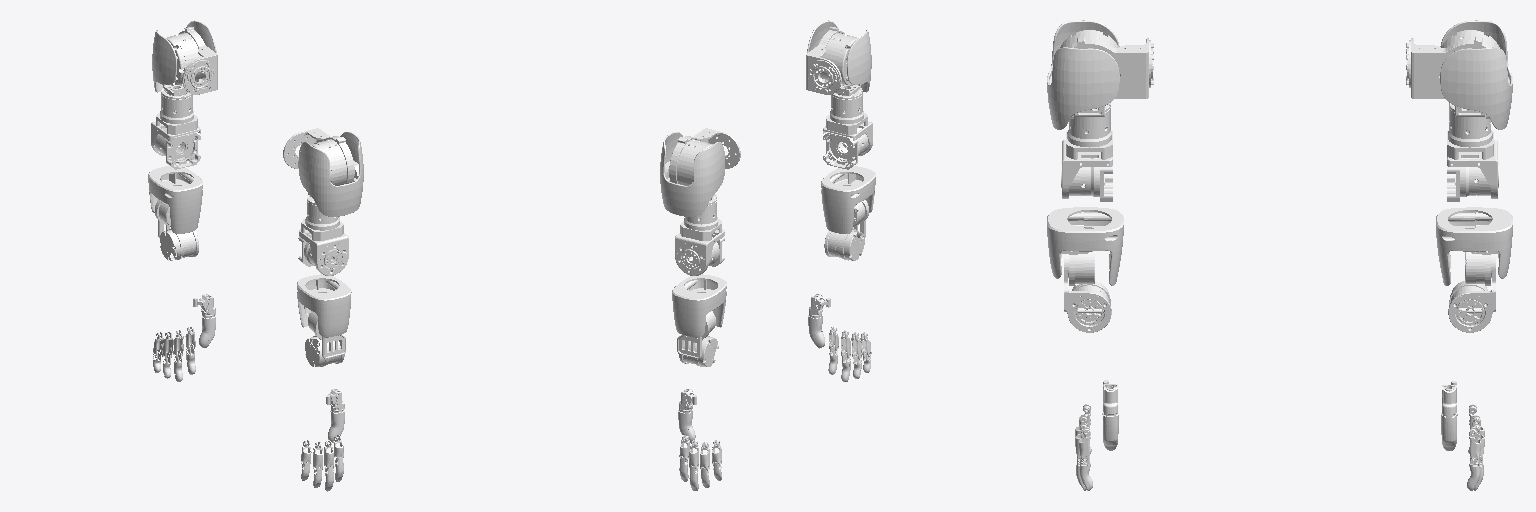
--- What the picture shows (computed from the rendered views, not written in the file) ---
3 views of the same robot in one strip: view 1: azimuth 30°, elevation 25°; view 2: azimuth 150°, elevation 25°; view 3: azimuth 270°, elevation 25° (orthographic).
Robot: biped_s4 — 35 links, 34 joints (34 continuous); root link torso; default pose: all joints at 0.
Visible links, largest first — view 1: r_arm_roll, l_hand_yaw, l_arm_yaw, r_hand_yaw, r_arm_yaw, l_arm_pitch, r_arm_pitch, l_arm_roll, r_hand_pitch, l_hand_pitch, l_thumb_distal_pitch, r_thumb_distal_pitch; view 2: l_arm_roll, r_hand_yaw, r_arm_yaw, l_hand_yaw, l_arm_yaw, r_arm_pitch, l_arm_pitch, r_arm_roll, r_hand_pitch, l_hand_pitch, r_thumb_distal_pitch, l_thumb_distal_pitch; view 3: r_arm_roll, l_arm_roll, l_hand_yaw, r_hand_yaw, l_arm_yaw, r_arm_yaw, l_arm_pitch, r_arm_pitch, l_hand_pitch, r_hand_pitch, r_thumb_distal_pitch, l_thumb_distal_pitch.
Link boxes in pixels (<box>): r_arm_roll: <box>298,132,363,216</box>; l_hand_yaw: <box>148,166,202,233</box>; l_arm_yaw: <box>151,88,200,169</box>; r_hand_yaw: <box>297,274,351,339</box>; r_arm_yaw: <box>298,195,348,275</box>; l_arm_pitch: <box>166,27,217,94</box>; r_arm_pitch: <box>283,128,354,185</box>; l_arm_roll: <box>152,20,216,95</box>; r_hand_pitch: <box>305,335,345,366</box>; l_hand_pitch: <box>158,220,198,260</box>; l_thumb_distal_pitch: <box>199,294,215,347</box>; r_thumb_distal_pitch: <box>328,389,344,442</box>; l_arm_roll: <box>660,132,724,216</box>; r_hand_yaw: <box>821,166,875,233</box>; r_arm_yaw: <box>823,88,872,169</box>; l_hand_yaw: <box>672,274,726,339</box>; l_arm_yaw: <box>675,194,724,275</box>; r_arm_pitch: <box>806,27,857,94</box>; l_arm_pitch: <box>669,128,740,185</box>; r_arm_roll: <box>807,20,871,95</box>; r_hand_pitch: <box>824,220,865,260</box>; l_hand_pitch: <box>677,335,718,366</box>; r_thumb_distal_pitch: <box>808,294,825,348</box>; l_thumb_distal_pitch: <box>678,389,695,442</box>; r_arm_roll: <box>1047,20,1119,129</box>; l_arm_roll: <box>1440,20,1512,129</box>; l_hand_yaw: <box>1436,207,1512,285</box>; r_hand_yaw: <box>1047,207,1123,285</box>; l_arm_yaw: <box>1447,103,1498,201</box>; r_arm_yaw: <box>1061,103,1112,201</box>; l_arm_pitch: <box>1406,30,1499,98</box>; r_arm_pitch: <box>1060,30,1153,98</box>; l_hand_pitch: <box>1448,254,1495,332</box>; r_hand_pitch: <box>1064,254,1111,332</box>; r_thumb_distal_pitch: <box>1102,384,1118,450</box>; l_thumb_distal_pitch: <box>1441,385,1457,450</box>.
Bounding box of the posed robot: 0.1139 × 0.6244 × 0.678 m (x, y, z).
Meshes: 35 distinct files referenced, 32 mesh visuals loaded (32 OBJ); not drawn: 3 (reference not matched to a file when rendering).

robot.urdf — biped_s4:
<?xml version="1.0" encoding="utf-8"?>
<!-- This URDF was automatically created by SolidWorks to URDF Exporter! Originally created by Stephen Brawner ([email redacted]) 
     Commit Version: 1.6.0-4-g7f85cfe  Build Version: 1.6.7995.38578
     For more information, please see http://wiki.ros.org/sw_urdf_exporter -->
<robot
  name="biped_s4">
  <link
    name="torso">
    <inertial>
      <origin
        xyz="-0.0131642143292668 -0.00101855461920045 0.120968817067497"
        rpy="0 0 0" />
      <mass
        value="26.62066" />
      <inertia
        ixx="0.109513413578877"
        ixy="-3.84263402967609E-06"
        ixz="0.002072229236261"
        iyy="0.0639718644540955"
        iyz="5.94596039793819E-06"
        izz="0.0796086142464887" />
    </inertial>
    <visual>
      <origin
        xyz="0 0 0"
        rpy="0 0 0" />
      <geometry>
        <mesh
          filename="../meshes/torso.obj" />
      </geometry>
      <material
        name="">
        <color
          rgba="1 1 1 1" />
      </material>
    </visual>
    <!-- <collision>
      <origin
        xyz="0 0 0"
        rpy="0 0 0" />
      <geometry>
        <mesh
          filename="../meshes/torso.obj" />
      </geometry>
    </collision> -->
  </link>
  <link
    name="l_arm_pitch">
    <inertial>
      <origin
        xyz="0.0146835191418715 -0.0166604103758634 -6.82857133369463E-05"
        rpy="0 0 0" />
      <mass
        value="0.794" />
      <inertia
        ixx="0.0002674432873971"
        ixy="-2.5654089149164E-05"
        ixz="-1.72966133127557E-07"
        iyy="0.000125796784291983"
        iyz="-1.66717296343014E-06"
        izz="0.000196186976742156" />
    </inertial>
    <visual>
      <origin
        xyz="0 0 0"
        rpy="0 0 0" />
      <geometry>
        <mesh
          filename="../meshes/l_arm_pitch.obj" />
      </geometry>
      <material
        name="">
        <color
          rgba="1 1 1 1" />
      </material>
    </visual>
    <!-- <collision>
      <origin
        xyz="0 0 0"
        rpy="0 0 0" />
      <geometry>
        <mesh
          filename="../meshes/l_arm_pitch.obj" />
      </geometry>
    </collision> -->
  </link>
  <joint
    name="l_arm_pitch"
    type="continuous">
    <origin
      xyz="-0.0175475823124921 0.254700000000031 0.324500000000024"
      rpy="0 0 0" />
    <parent
      link="torso" />
    <child
      link="l_arm_pitch" />
    <axis
      xyz="0 1 0" />
  </joint>
  <transmission type="SimpleTransmission">
    <joint name="l_arm_pitch" />
    <actuator name="l_arm_pitch_motor" />
  </transmission>
  
  <link
    name="l_arm_roll">
    <inertial>
      <origin
        xyz="0.0222872651779294 0.0156945544195443 -0.0202262244341467"
        rpy="0 0 0" />
      <mass
        value="0.20735" />
      <inertia
        ixx="0.000160370067223078"
        ixy="6.30811840859276E-06"
        ixz="-1.13259246453472E-05"
        iyy="0.000262365778589952"
        iyz="3.14941259087025E-05"
        izz="0.000236014036281963" />
    </inertial>
    <visual>
      <origin
        xyz="0 0 0"
        rpy="0 0 0" />
      <geometry>
        <mesh
          filename="../meshes/l_arm_roll.obj" />
      </geometry>
      <material
        name="">
        <color
          rgba="1 1 1 1" />
      </material>
    </visual>
    <!-- <collision>
      <origin
        xyz="0 0 0"
        rpy="0 0 0" />
      <geometry>
        <mesh
          filename="../meshes/l_arm_roll.obj" />
      </geometry>
    </collision> -->
  </link>
  <joint
    name="l_arm_roll"
    type="continuous">
    <origin
      xyz="0 0 0"
      rpy="0 0 0" />
    <parent
      link="l_arm_pitch" />
    <child
      link="l_arm_roll" />
    <axis
      xyz="1 0 0" />
  </joint>
  <transmission type="SimpleTransmission">
    <joint name="l_arm_roll" />
    <actuator name="l_arm_roll_motor" />
  </transmission>
  
  <link
    name="l_arm_yaw">
    <inertial>
      <origin
        xyz="6.16940440653045E-05 0.00525815062787316 -0.12882194485465"
        rpy="0 0 0" />
      <mass
        value="1.120632" />
      <inertia
        ixx="7.00575957554695E-05"
        ixy="-6.81658230071221E-10"
        ixz="2.6942707856767E-10"
        iyy="8.53612265336774E-05"
        iyz="6.95899873075697E-06"
        izz="8.82223899453282E-05" />
    </inertial>
    <visual>
      <origin
        xyz="0 0 0"
        rpy="0 0 0" />
      <geometry>
        <mesh
          filename="../meshes/l_arm_yaw.obj" />
      </geometry>
      <material
        name="">
        <color
          rgba="1 1 1 1" />
      </material>
    </visual>
    <!-- <collision>
      <origin
        xyz="0 0 0"
        rpy="0 0 0" />
      <geometry>
        <mesh
          filename="../meshes/l_arm_yaw.obj" />
      </geometry>
    </collision> -->
  </link>
  <joint
    name="l_arm_yaw"
    type="continuous">
    <origin
      xyz="0 0 0"
      rpy="0 0 0" />
    <parent
      link="l_arm_roll" />
    <child
      link="l_arm_yaw" />
    <axis
      xyz="0 0 1" />
  </joint>
  <transmission type="SimpleTransmission">
    <joint name="l_arm_yaw" />
    <actuator name="l_arm_yaw_motor" />
  </transmission>
  
  <link
    name="l_forearm_pitch">
    <inertial>
      <origin
        xyz="-1.42819297162602E-05 0.00938313949963104 -0.0522687552263907"
        rpy="0 0 0" />
      <mass
        value="0.395825" />
      <inertia
        ixx="9.55808447606964E-05"
        ixy="-4.53863489155473E-08"
        ixz="5.39342118114986E-08"
        iyy="0.000126326373178401"
        iyz="-9.58160032696802E-06"
        izz="0.000121032474884244" />
    </inertial>
    <visual>
      <origin
        xyz="0 0 0"
        rpy="0 0 0" />
      <geometry>
        <mesh
          filename="../meshes/l_forearm_pitch.obj" />
      </geometry>
      <material
        name="">
        <color
          rgba="1 1 1 1" />
      </material>
    </visual>
    <!-- <collision>
      <origin
        xyz="0 0 0"
        rpy="0 0 0" />
      <geometry>
        <mesh
          filename="../meshes/l_forearm_pitch.obj" />
      </geometry>
    </collision> -->
  </link>
  <joint
    name="l_forearm_pitch"
    type="continuous">
    <origin
      xyz="0 0 -0.163599999999996"
      rpy="0 0 0" />
    <parent
      link="l_arm_yaw" />
    <child
      link="l_forearm_pitch" />
    <axis
      xyz="0 1 0" />
  </joint>
  <transmission type="SimpleTransmission">
    <joint name="l_arm_yaw" />
    <actuator name="l_arm_yaw_motor" />
  </transmission>
  
  <link
    name="l_hand_yaw">
    <inertial>
      <origin
        xyz="0.000113131262875685 0.00969728110559553 0.0227960708688583"
        rpy="0 0 0" />
      <mass
        value="0.380792" />
      <inertia
        ixx="7.64923971357921E-05"
        ixy="8.51207618055666E-09"
        ixz="-1.40676645868301E-08"
        iyy="0.000122231121933325"
        iyz="1.11226992393513E-06"
        izz="8.44934959384744E-05" />
    </inertial>
    <visual>
      <origin
        xyz="0 0 0"
        rpy="0 0 0" />
      <geometry>
        <mesh
          filename="../meshes/l_hand_yaw.obj" />
      </geometry>
      <material
        name="">
        <color
          rgba="1 1 1 1" />
      </material>
    </visual>
    <!-- <collision>
      <origin
        xyz="0 0 0"
        rpy="0 0 0" />
      <geometry>
        <mesh
          filename="../meshes/l_hand_yaw.obj" />
      </geometry>
    </collision> -->
  </link>
  <joint
    name="l_hand_yaw"
    type="continuous">
    <origin
      xyz="0 0 -0.132050000118071"
      rpy="0 0 0" />
    <parent
      link="l_forearm_pitch" />
    <child
      link="l_hand_yaw" />
    <axis
      xyz="0 0 1" />
  </joint>
  <transmission type="SimpleTransmission">
    <joint name="l_hand_yaw" />
    <actuator name="l_hand_yaw_motor" />
  </transmission>
  
  <link
    name="l_hand_pitch">
    <inertial>
      <origin
        xyz="0.00810609772930763 0.00490163171050539 -0.0527751110917489"
        rpy="0 0 0" />
      <mass
        value="0.376651" />
      <inertia
        ixx="4.77321490368476E-05"
        ixy="3.05261917457108E-06"
        ixz="4.77827164947653E-06"
        iyy="3.43814769749137E-05"
        iyz="-4.59311499587152E-06"
        izz="2.49955336560133E-05" />
    </inertial>
    <visual>
      <origin
        xyz="0 0 0"
        rpy="0 0 0" />
      <geometry>
        <mesh
          filename="../meshes/l_hand_pitch.obj" />
      </geometry>
      <material
        name="">
        <color
          rgba="1 1 1 1" />
      </material>
    </visual>
    <!-- <collision>
      <origin
        xyz="0 0 0"
        rpy="0 0 0" />
      <geometry>
        <mesh
          filename="../meshes/l_hand_pitch.obj" />
      </geometry>
    </collision> -->
  </link>
  <joint
    name="l_hand_pitch"
    type="continuous">
    <origin
      xyz="0 0 0"
      rpy="0 0 0" />
    <parent
      link="l_hand_yaw" />
    <child
      link="l_hand_pitch" />
    <axis
      xyz="0 1 0" />
  </joint>
  <transmission type="SimpleTransmission">
    <joint name="l_hand_pitch" />
    <actuator name="l_hand_pitch_motor" />
  </transmission>
  
  <link
    name="l_hand_roll">
    <inertial>
      <origin
        xyz="0.00396050555698803 0.00946265387749012 -0.066602176591173"
        rpy="0 0 0" />
      <mass
        value="0.704669" />
      <inertia
        ixx="9.13246737942629E-05"
        ixy="3.25649345932988E-07"
        ixz="-4.78728976781085E-06"
        iyy="0.000139866613946359"
        iyz="1.1925397914412E-05"
        izz="0.000125082116428502" />
    </inertial>
    <visual>
      <origin
        xyz="0 0 0"
        rpy="0 0 0" />
      <geometry>
        <mesh
          filename="../meshes/l_hand_roll.obj" />
      </geometry>
      <material
        name="">
        <color
          rgba="1 1 1 1" />
      </material>
    </visual>
    <!-- <collision>
      <origin
        xyz="0 0 0"
        rpy="0 0 0" />
      <geometry>
        <mesh
          filename="../meshes/l_hand_roll.obj" />
      </geometry>
    </collision> -->
  </link>
  <joint
    name="l_hand_roll"
    type="continuous">
    <origin
      xyz="0 0 -0.058999997180792"
      rpy="0 0 0" />
    <parent
      link="l_hand_pitch" />
    <child
      link="l_hand_roll" />
    <axis
      xyz="1 0 0" />
  </joint>
  <transmission type="SimpleTransmission">
    <joint name="l_hand_roll" />
    <actuator name="l_hand_roll_motor" />
  </transmission>

  <link
    name="l_thumb_proximal_yaw">
    <inertial>
      <origin
        xyz="0.00590166593878135 -0.00373751061980748 0.000119122170746666"
        rpy="0 0 0" />
      <mass
        value="0.00177457706476174" />
      <inertia
        ixx="5.5194777085443E-08"
        ixy="3.05430802968252E-08"
        ixz="8.99312903596649E-10"
        iyy="7.93062784538195E-08"
        iyz="-4.09905263561327E-10"
        izz="9.86616855273954E-08" />
    </inertial>
    <visual>
      <origin
        xyz="0 0 0"
        rpy="0 0 0" />
      <geometry>
        <mesh
          filename="../meshes/l_thumb_proximal_yaw.obj" />
      </geometry>
      <material
        name="">
        <color
          rgba="1 1 1 0.25" />
      </material>
    </visual>
    <!-- <collision>
      <origin
        xyz="0 0 0"
        rpy="0 0 0" />
      <geometry>
        <mesh
          filename="../meshes/l_thumb_proximal_yaw.obj" />
      </geometry>
    </collision> -->
  </link>
  <joint
    name="l_thumb_proximal_yaw"
    type="continuous">
    <origin
      xyz="0.0250000027597683 -0.0216278329431251 -0.110700000402975"
      rpy="0 0 0" />
    <parent
      link="l_hand_roll" />
    <child
      link="l_thumb_proximal_yaw" />
    <axis
      xyz="0 0 1" />
  </joint>
  <transmission type="SimpleTransmission">
    <joint name="l_thumb_proximal_yaw" />
    <actuator name="l_thumb_proximal_yaw_motor" />
  </transmission>
  <link
    name="l_thumb_distal_pitch">
    <inertial>
      <origin
        xyz="0.00835400575954671 -1.54980826169715E-06 -0.0372051471727699"
        rpy="0 0 0" />
      <mass
        value="0.0143594964918226" />
      <inertia
        ixx="7.15388390483937E-06"
        ixy="-6.69701976384447E-11"
        ixz="-2.03395115704228E-07"
        iyy="6.87910901050402E-06"
        iyz="5.38324327216661E-12"
        izz="9.1475596956079E-07" />
    </inertial>
    <visual>
      <origin
        xyz="0 0 0"
        rpy="0 0 0" />
      <geometry>
        <mesh
          filename="../meshes/l_thumb_distal_pitch.obj" />
      </geometry>
      <material
        name="">
        <color
          rgba="1 1 1 1" />
      </material>
    </visual>
    <!-- <collision>
      <origin
        xyz="0 0 0"
        rpy="0 0 0" />
      <geometry>
        <mesh
          filename="../meshes/l_thumb_distal_pitch.obj" />
      </geometry>
    </collision> -->
  </link>
  <joint
    name="l_thumb_distal_pitch"
    type="continuous">
    <origin
      xyz="0.0120000000000023 -0.00649999999999773 0"
      rpy="0 0 0" />
    <parent
      link="l_thumb_proximal_yaw" />
    <child
      link="l_thumb_distal_pitch" />
    <axis
      xyz="0 1 0" />
  </joint>
  <transmission type="SimpleTransmission">
    <joint name="l_thumb_distal_pitch" />
    <actuator name="l_thumb_distal_pitch_motor" />
  </transmission>
  <link
    name="l_index_proximal_finger">
    <inertial>
      <origin
        xyz="0.000112677527646918 0.00210468432487104 -0.0171028451759692"
        rpy="0 0 0" />
      <mass
        value="0.00213736998836043" />
      <inertia
        ixx="3.18607074297438E-07"
        ixy="1.30056260562274E-09"
        ixz="2.05323306383889E-09"
        iyy="3.41865494200988E-07"
        iyz="3.87251682723715E-08"
        izz="9.68025640372966E-08" />
    </inertial>
    <visual>
      <origin
        xyz="0 0 0"
        rpy="0 0 0" />
      <geometry>
        <mesh
          filename="../meshes/l_index_proximal_finger.obj" />
      </geometry>
      <material
        name="">
        <color
          rgba="1 1 1 1" />
      </material>
    </visual>
    <!-- <collision>
      <origin
        xyz="0 0 0"
        rpy="0 0 0" />
      <geometry>
        <mesh
          filename="../meshes/l_index_proximal_finger.obj" />
      </geometry>
    </collision> -->
  </link>
  <joint
    name="l_index_proximal_finger"
    type="continuous">
    <origin
      xyz="0.0295025377507617 0.0039487923396046 -0.174730558860478"
      rpy="0 -0.0311675978215656 0" />
    <parent
      link="l_hand_roll" />
    <child
      link="l_index_proximal_finger" />
    <axis
      xyz="-0.998506141360648 0.0546395979585239 0" />
  </joint>
  <transmission type="SimpleTransmission">
    <joint name="l_index_proximal_finger" />
    <actuator name="l_index_proximal_finger_motor" />
  </transmission>
  <link
    name="l_index_distal_finger">
    <inertial>
      <origin
        xyz="-8.80400428074002E-05 -0.00161951020344181 -0.0254571889170825"
        rpy="0 0 0" />
      <mass
        value="0.0050446595604151" />
      <inertia
        ixx="7.63510729443016E-07"
        ixy="9.29795250634311E-10"
        ixz="-1.77723934932869E-09"
        iyy="7.80114728886836E-07"
        iyz="-3.23075401001615E-08"
        izz="1.15370765338784E-07" />
    </inertial>
    <visual>
      <origin
        xyz="0 0 0"
        rpy="0 0 0" />
      <geometry>
        <mesh
          filename="../meshes/l_index_distal_finger.obj" />
      </geometry>
      <material
        name="">
        <color
          rgba="1 1 1 1" />
      </material>
    </visual>
    <!-- <collision>
      <origin
        xyz="0 0 0"
        rpy="0 0 0" />
      <geometry>
        <mesh
          filename="../meshes/l_index_distal_finger.obj" />
      </geometry>
    </collision> -->
  </link>
  <joint
    name="l_index_distal_finger"
    type="continuous">
    <origin
      xyz="0.00013351949359549 0.00243998929947531 -0.0349145904281216"
      rpy="0 0 0" />
    <parent
      link="l_index_proximal_finger" />
    <child
      link="l_index_distal_finger" />
    <axis
      xyz="0.998506141360648 -0.0546395979585221 0" />
  </joint>
  <transmission type="SimpleTransmission">
    <joint name="l_index_distal_finger" />
    <actuator name="l_index_distal_finger_motor" />
  </transmission>
  <link
    name="l_middle_proximal_finger">
    <inertial>
      <origin
        xyz="-8.42681364791875E-08 0.00270210130078863 -0.0207829689336636"
        rpy="0 0 0" />
      <mass
        value="0.00260456391453855" />
      <inertia
        ixx="5.09608185934252E-07"
        ixy="-1.75213111801256E-12"
        ixz="-1.78265353217213E-12"
        iyy="5.36695797641851E-07"
        iyz="5.70433108286832E-08"
        izz="1.25808947550621E-07" />
    </inertial>
    <visual>
      <origin
        xyz="0 0 0"
        rpy="0 0 0" />
      <geometry>
        <mesh
          filename="../meshes/l_middle_proximal_finger.obj" />
      </geometry>
      <material
        name="">
        <color
          rgba="1 1 1 1" />
      </material>
    </visual>
    <!-- <collision>
      <origin
        xyz="0 0 0"
        rpy="0 0 0" />
      <geometry>
        <mesh
          filename="../meshes/l_middle_proximal_finger.obj" />
      </geometry>
    </collision> -->
  </link>
  <joint
    name="l_middle_proximal_finger"
    type="continuous">
    <origin
      xyz="0.00850000275976636 0.00820381922686209 -0.178435376742696"
      rpy="0 0 0" />
    <parent
      link="l_hand_roll" />
    <child
      link="l_middle_proximal_finger" />
    <axis
      xyz="1 0 0" />
  </joint>
  <transmission type="SimpleTransmission">
    <joint name="l_middle_proximal_finger" />
    <actuator name="l_middle_proximal_finger_motor" />
  </transmission>
  <link
    name="l_middle_distal_finger">
    <inertial>
      <origin
        xyz="6.04648922300846E-07 -0.00162350982455478 -0.0254571915129888"
        rpy="0 0 0" />
      <mass
        value="0.00504466861649399" />
      <inertia
        ixx="7.63455312842206E-07"
        ixy="1.85533672652204E-11"
        ixz="-1.04806627113088E-11"
        iyy="7.80159394341909E-07"
        iyz="-3.23975147926483E-08"
        izz="1.15374581207705E-07" />
    </inertial>
    <visual>
      <origin
        xyz="0 0 0"
        rpy="0 0 0" />
      <geometry>
        <mesh
          filename="../meshes/l_middle_distal_finger.obj" />
      </geometry>
      <material
        name="">
        <color
          rgba="1 1 1 1" />
      </material>
    </visual>
    <!-- <collision>
      <origin
        xyz="0 0 0"
        rpy="0 0 0" />
      <geometry>
        <mesh
          filename="../meshes/l_middle_distal_finger.obj" />
      </geometry>
    </collision> -->
  </link>
  <joint
    name="l_middle_distal_finger"
    type="continuous">
    <origin
      xyz="0 0.00292977189725752 -0.0418976901109154"
      rpy="0 0 0" />
    <parent
      link="l_middle_proximal_finger" />
    <child
      link="l_middle_distal_finger" />
    <axis
      xyz="1 0 0" />
  </joint>
  <transmission type="SimpleTransmission">
    <joint name="l_middle_distal_finger" />
    <actuator name="l_middle_distal_finger_motor" />
  </transmission>
  <link
    name="l_ring_proximal_finger">
    <inertial>
      <origin
        xyz="-0.000147796548979496 0.00269934539278621 -0.0207828033089016"
        rpy="0 0 0" />
      <mass
        value="0.00260456483338844" />
      <inertia
        ixx="5.09689336813819E-07"
        ixy="-1.47916431111907E-09"
        ixz="-3.12001764447105E-09"
        iyy="5.36607842012435E-07"
        iyz="5.69834083724575E-08"
        izz="1.25816049307563E-07" />
    </inertial>
    <visual>
      <origin
        xyz="0 0 0"
        rpy="0 0 0" />
      <geometry>
        <mesh
          filename="../meshes/l_ring_proximal_finger.obj" />
      </geometry>
      <material
        name="">
        <color
          rgba="1 1 1 1" />
      </material>
    </visual>
    <!-- <collision>
      <origin
        xyz="0 0 0"
        rpy="0 0 0" />
      <geometry>
        <mesh
          filename="../meshes/l_ring_proximal_finger.obj" />
      </geometry>
    </collision> -->
  </link>
  <joint
    name="l_ring_proximal_finger"
    type="continuous">
    <origin
      xyz="-0.0126025322312212 0.0080785614881318 -0.176446661066021"
      rpy="0 0.0311675978215913 0" />
    <parent
      link="l_hand_roll" />
    <child
      link="l_ring_proximal_finger" />
    <axis
      xyz="-0.998506141360648 -0.0546395979585319 0" />
  </joint>
  <transmission type="SimpleTransmission">
    <joint name="l_ring_proximal_finger" />
    <actuator name="l_ring_proximal_finger_motor" />
  </transmission>
  <link
    name="l_ring_distal_finger">
    <inertial>
      <origin
        xyz="-2.97819768621012E-05 0.000551723183689734 -0.0145820959398313"
        rpy="0 0 0" />
      <mass
        value="0.00182871318152307" />
      <inertia
        ixx="2.63516580484025E-07"
        ixy="-6.83151710625831E-10"
        ixz="3.36133845950725E-10"
        iyy="2.75945893486764E-07"
        iyz="-6.18248894827772E-09"
        izz="4.69859277660983E-08" />
    </inertial>
    <visual>
      <origin
        xyz="0 0 0"
        rpy="0 0 0" />
      <geometry>
        <mesh
          filename="../meshes/l_ring_distal_finger.obj" />
      </geometry>
      <material
        name="">
        <color
          rgba="1 1 1 1" />
      </material>
    </visual>
    <!-- <collision>
      <origin
        xyz="0 0 0"
        rpy="0 0 0" />
      <geometry>
        <mesh
          filename="../meshes/l_ring_distal_finger.obj" />
      </geometry>
    </collision> -->
  </link>
  <joint
    name="l_ring_distal_finger"
    type="continuous">
    <origin
      xyz="-0.000160223392310654 0.0029279871592986 -0.0418975085137674"
      rpy="0 0 0" />
    <parent
      link="l_ring_proximal_finger" />
    <child
      link="l_ring_distal_finger" />
    <axis
      xyz="0.998506141360637 0.0546395979587272 0" />
  </joint>
  <transmission type="SimpleTransmission">
    <joint name="l_ring_distal_finger" />
    <actuator name="l_ring_distal_finger_motor" />
  </transmission>
  <link
    name="l_pinky_proximal_finger">
    <inertial>
      <origin
        xyz="-0.000122637015400211 0.00210212976760699 -0.0171030805340099"
        rpy="0 0 0" />
      <mass
        value="0.00213737962233864" />
      <inertia
        ixx="3.18608415490598E-07"
        ixy="-1.31059762777735E-09"
        ixz="-2.27735464077079E-09"
        iyy="3.41873917256528E-07"
        iyz="3.868353887277E-08"
        izz="9.67938996220609E-08" />
    </inertial>
    <visual>
      <origin
        xyz="0 0 0"
        rpy="0 0 0" />
      <geometry>
        <mesh
          filename="../meshes/l_pinky_proximal_finger.obj" />
      </geometry>
      <material
        name="">
        <color
          rgba="1 1 1 1" />
      </material>
    </visual>
    <!-- <collision>
      <origin
        xyz="0 0 0"
        rpy="0 0 0" />
      <geometry>
        <mesh
          filename="../meshes/l_pinky_proximal_finger.obj" />
      </geometry>
    </collision> -->
  </link>
  <joint
    name="l_pinky_proximal_finger"
    type="continuous">
    <origin
      xyz="-0.0332309186593585 0.00363387338808113 -0.170227008036839"
      rpy="0 0.0659957839625552 0" />
    <parent
      link="l_hand_roll" />
    <child
      link="l_pinky_proximal_finger" />
    <axis
      xyz="-0.998370307122329 -0.0570677654763681 0" />
  </joint>
  <transmission type="SimpleTransmission">
    <joint name="l_pinky_proximal_finger" />
    <actuator name="l_pinky_proximal_finger_motor" />
  </transmission>
  <link
    name="l_pinky_distal_finger">
    <inertial>
      <origin
        xyz="-2.37672426811816E-05 0.000794235285774603 -0.012715032786375"
        rpy="0 0 0" />
      <mass
        value="0.0" />
      <inertia
        ixx="1.83851158692576E-07"
        ixy="-6.07362102189367E-10"
        ixz="5.80097994345134E-10"
        iyy="1.94700163140648E-07"
        iyz="-1.32219757688182E-09"
        izz="3.94695919117445E-08" />
    </inertial>
    <visual>
      <origin
        xyz="0 0 0"
        rpy="0 0 0" />
      <geometry>
        <mesh
          filename="../meshes/l_pinky_distal_finger.obj" />
      </geometry>
      <material
        name="">
        <color
          rgba="1 1 1 1" />
      </material>
    </visual>
    <!-- <collision>
      <origin
        xyz="0 0 0"
        rpy="0 0 0" />
      <geometry>
        <mesh
          filename="../meshes/l_pinky_distal_finger.obj" />
      </geometry>
    </collision> -->
  </link>
  <joint
    name="l_pinky_distal_finger"
    type="continuous">
    <origin
      xyz="-0.000139217094110203 0.00243552926671115 -0.0349148795758059"
      rpy="0 0 0" />
    <parent
      link="l_pinky_proximal_finger" />
    <child
      link="l_pinky_distal_finger" />
    <axis
      xyz="0.998370307122341 0.0570677654761637 0" />
  </joint>
  <transmission type="SimpleTransmission">
    <joint name="l_pinky_distal_finger" />
    <actuator name="l_pinky_distal_finger_motor" />
  </transmission>
  <link
    name="r_arm_pitch">
    <inertial>
      <origin
        xyz="0.0146743511434554 0.016829800822405 -8.16711977455475E-05"
        rpy="0 0 0" />
      <mass
        value="0.794" />
      <inertia
        ixx="0.000267364314112701"
        ixy="2.58822573731612E-05"
        ixz="-1.74450019197639E-07"
        iyy="0.000125724274127356"
        iyz="1.71810516637517E-06"
        izz="0.000196179895851995" />
    </inertial>
    <visual>
      <origin
        xyz="0 0 0"
        rpy="0 0 0" />
      <geometry>
        <mesh
          filename="../meshes/r_arm_pitch.obj" />
      </geometry>
      <material
        name="">
        <color
          rgba="1 1 1 1" />
      </material>
    </visual>
    <!-- <collision>
      <origin
        xyz="0 0 0"
        rpy="0 0 0" />
      <geometry>
        <mesh
          filename="../meshes/r_arm_pitch.obj" />
      </geometry>
    </collision> -->
  </link>
  <joint
    name="r_arm_pitch"
    type="continuous">
    <origin
      xyz="-0.0175475823119764 -0.254700000000003 0.324500000000024"
      rpy="0 0 0" />
    <parent
      link="torso" />
    <child
      link="r_arm_pitch" />
    <axis
      xyz="0 1 0" />
  </joint>
  <transmission type="SimpleTransmission">
    <joint name="r_arm_pitch" />
    <actuator name="r_arm_pitch_motor" />
  </transmission>
  
  <link
    name="r_arm_roll">
    <inertial>
      <origin
        xyz="0.0223009070371899 -0.0156950170222252 -0.0202307747728591"
        rpy="0 0 0" />
      <mass
        value="0.20735" />
      <inertia
        ixx="0.000160588534065391"
        ixy="-6.25733640993197E-06"
        ixz="-1.13236198591127E-05"
        iyy="0.000262566981459999"
        iyz="-3.1493041488675E-05"
        izz="0.000236151535090871" />
    </inertial>
    <visual>
      <origin
        xyz="0 0 0"
        rpy="0 0 0" />
      <geometry>
        <mesh
          filename="../meshes/r_arm_roll.obj" />
      </geometry>
      <material
        name="">
        <color
          rgba="1 1 1 1" />
      </material>
    </visual>
    <!-- <collision>
      <origin
        xyz="0 0 0"
        rpy="0 0 0" />
      <geometry>
        <mesh
          filename="../meshes/r_arm_roll.obj" />
      </geometry>
    </collision> -->
  </link>
  <joint
    name="r_arm_roll"
    type="continuous">
    <origin
      xyz="0 0 0"
      rpy="0 0 0" />
    <parent
      link="r_arm_pitch" />
    <child
      link="r_arm_roll" />
    <axis
      xyz="1 0 0" />
  </joint>
  <transmission type="SimpleTransmission">
    <joint name="r_arm_pitch" />
    <actuator name="r_arm_pitch_motor" />
  </transmission>
  
  <link
    name="r_arm_yaw">
    <inertial>
      <origin
        xyz="-4.82749435399069E-05 -0.00525815062783946 -0.128821944854617"
        rpy="0 0 0" />
      <mass
        value="1.120632" />
      <inertia
        ixx="7.005759575547E-05"
        ixy="-6.81658260959138E-10"
        ixz="-2.69427064536621E-10"
        iyy="8.53612265336777E-05"
        iyz="-6.95899873075701E-06"
        izz="8.82223899453284E-05" />
    </inertial>
    <visual>
      <origin
        xyz="0 0 0"
        rpy="0 0 0" />
      <geometry>
        <mesh
          filename="../meshes/r_arm_yaw.obj" />
      </geometry>
      <material
        name="">
        <color
          rgba="1 1 1 1" />
      </material>
    </visual>
    <!-- <collision>
      <origin
        xyz="0 0 0"
        rpy="0 0 0" />
      <geometry>
        <mesh
          filename="../meshes/r_arm_yaw.obj" />
      </geometry>
    </collision> -->
  </link>
  <joint
    name="r_arm_yaw"
    type="continuous">
    <origin
      xyz="0 0 0"
      rpy="0 0 0" />
    <parent
      link="r_arm_roll" />
    <child
      link="r_arm_yaw" />
    <axis
      xyz="0 0 1" />
  </joint>
  <transmission type="SimpleTransmission">
    <joint name="r_arm_yaw" />
    <actuator name="r_arm_yaw_motor" />
  </transmission>
  
  <link
    name="r_forearm_pitch">
    <inertial>
      <origin
        xyz="-0.000127232990745296 -0.00951602649232614 -0.052268755226349"
        rpy="0 0 0" />
      <mass
        value="0.395825" />
      <inertia
        ixx="9.55808447606902E-05"
        ixy="-4.53863489771543E-08"
        ixz="-5.41060583435907E-08"
        iyy="0.000126326373178393"
        iyz="9.40982665987161E-06"
        izz="0.000121032474884238" />
    </inertial>
    <visual>
      <origin
        xyz="0 0 0"
        rpy="0 0 0" />
      <geometry>
        <mesh
          filename="../meshes/r_forearm_pitch.obj" />
      </geometry>
      <material
        name="">
        <color
          rgba="1 1 1 1" />
      </material>
    </visual>
    <!-- <collision>
      <origin
        xyz="0 0 0"
        rpy="0 0 0" />
      <geometry>
        <mesh
          filename="../meshes/r_forearm_pitch.obj" />
      </geometry>
    </collision> -->
  </link>
  <joint
    name="r_forearm_pitch"
    type="continuous">
    <origin
      xyz="0 0 -0.1636"
      rpy="0 0 0" />
    <parent
      link="r_arm_yaw" />
    <child
      link="r_forearm_pitch" />
    <axis
      xyz="0 1 0" />
  </joint>
  <transmission type="SimpleTransmission">
    <joint name="r_forearm_pitch" />
    <actuator name="r_forearm_pitch_motor" />
  </transmission>
  
  <link
    name="r_hand_yaw">
    <inertial>
      <origin
        xyz="-0.000112955483967687 -0.00974449526683929 0.0227958280839014"
        rpy="0 0 0" />
      <mass
        value="0.380792" />
      <inertia
        ixx="7.64922331363792E-05"
        ixy="8.75195261100849E-09"
        ixz="1.38703019538351E-08"
        iyy="0.000122230542206117"
        iyz="-1.1123944412365E-06"
        izz="8.44929064837534E-05" />
    </inertial>
    <visual>
      <origin
        xyz="0 0 0"
        rpy="0 0 0" />
      <geometry>
        <mesh
          filename="../meshes/r_hand_yaw.obj" />
      </geometry>
      <material
        name="">
        <color
          rgba="1 1 1 1" />
      </material>
    </visual>
    <!-- <collision>
      <origin
        xyz="0 0 0"
        rpy="0 0 0" />
      <geometry>
        <mesh
          filename="../meshes/r_hand_yaw.obj" />
      </geometry>
    </collision> -->
  </link>
  <joint
    name="r_hand_yaw"
    type="continuous">
    <origin
      xyz="0 0 -0.132050000118069"
      rpy="0 0 0" />
    <parent
      link="r_forearm_pitch" />
    <child
      link="r_hand_yaw" />
    <axis
      xyz="0 0 1" />
  </joint>
  <transmission type="SimpleTransmission">
    <joint name="r_hand_yaw" />
    <actuator name="r_hand_yaw_motor" />
  </transmission>
  
  <link
    name="r_hand_pitch">
    <inertial>
      <origin
        xyz="0.00735986990228201 -0.00475238307648407 -0.0529411193942666"
        rpy="0 0 0" />
      <mass
        value="0.376651" />
      <inertia
        ixx="4.77321358097823E-05"
        ixy="-2.99709432812987E-06"
        ixz="4.71488437974189E-06"
        iyy="3.42470226388499E-05"
        iyz="4.61094199971348E-06"
        izz="2.51299600072389E-05" />
    </inertial>
    <visual>
      <origin
        xyz="0 0 0"
        rpy="0 0 0" />
      <geometry>
        <mesh
          filename="../meshes/r_hand_pitch.obj" />
      </geometry>
      <material
        name="">
        <color
          rgba="1 1 1 1" />
      </material>
    </visual>
    <!-- <collision>
      <origin
        xyz="0 0 0"
        rpy="0 0 0" />
      <geometry>
        <mesh
          filename="../meshes/r_hand_pitch.obj" />
      </geometry>
    </collision> -->
  </link>
  <joint
    name="r_hand_pitch"
    type="continuous">
    <origin
      xyz="0 0 0"
      rpy="0 0 0" />
    <parent
      link="r_hand_yaw" />
    <child
      link="r_hand_pitch" />
    <axis
      xyz="0 1 0" />
  </joint>
  <transmission type="SimpleTransmission">
    <joint name="r_hand_pitch" />
    <actuator name="r_hand_pitch_motor" />
  </transmission>
  
  <link
    name="r_hand_roll">
    <inertial>
      <origin
        xyz="0.00300067727381764 -0.00948299721849261 -0.0665274119439575"
        rpy="0 0 0" />
      <mass
        value="0.704669" />
      <inertia
        ixx="9.14013694279149E-05"
        ixy="-3.00635383669835E-07"
        ixz="-4.88449841632957E-06"
        iyy="0.000140002484811824"
        iyz="-1.18898278478315E-05"
        izz="0.000125153253041102" />
    </inertial>
    <visual>
      <origin
        xyz="0 0 0"
        rpy="0 0 0" />
      <geometry>
        <mesh
          filename="../meshes/r_hand_roll.obj" />
      </geometry>
      <material
        name="">
        <color
          rgba="1 1 1 1" />
      </material>
    </visual>
    <!-- <collision>
      <origin
        xyz="0 0 0"
        rpy="0 0 0" />
      <geometry>
        <mesh
          filename="../meshes/r_hand_roll.obj" />
      </geometry>
    </collision> -->
  </link>
  <joint
    name="r_hand_roll"
    type="continuous">
    <origin
      xyz="0 0 -0.0590000000076598"
      rpy="0 0 0" />
    <parent
      link="r_hand_pitch" />
    <child
      link="r_hand_roll" />
    <axis
      xyz="1 0 0" />
  </joint>
  <transmission type="SimpleTransmission">
    <joint name="r_hand_roll" />
    <actuator name="r_hand_roll_motor" />
  </transmission>
  <link
    name="r_thumb_proximal_yaw">
    <inertial>
      <origin
        xyz="0.0059016659387813 0.00373751061983887 0.00028087782921854"
        rpy="0 0 0" />
      <mass
        value="0.00177457706476174" />
      <inertia
        ixx="5.51947770854431E-08"
        ixy="-3.05430802968252E-08"
        ixz="-8.9931290359755E-10"
        iyy="7.93062784538199E-08"
        iyz="-4.09905263561892E-10"
        izz="9.86616855273956E-08" />
    </inertial>
    <visual>
      <origin
        xyz="0 0 0"
        rpy="0 0 0" />
      <geometry>
        <mesh
          filename="../meshes/r_thumb_proximal_yaw.obj" />
      </geometry>
      <material
        name="">
        <color
          rgba="1 1 1 0.25" />
      </material>
    </visual>
    <!-- <collision>
      <origin
        xyz="0 0 0"
        rpy="0 0 0" />
      <geometry>
        <mesh
          filename="../meshes/r_thumb_proximal_yaw.obj" />
      </geometry>
    </collision> -->
  </link>
  <joint
    name="r_thumb_proximal_yaw"
    type="continuous">
    <origin
      xyz="0.0240162583145044 0.0216278329431261 -0.110700000402968"
      rpy="0 0 0" />
    <parent
      link="r_hand_roll" />
    <child
      link="r_thumb_proximal_yaw" />
    <axis
      xyz="0 0 1" />
  </joint>
  <transmission type="SimpleTransmission">
    <joint name="r_thumb_proximal_yaw" />
    <actuator name="r_thumb_proximal_yaw_motor" />
  </transmission>
  <link
    name="r_thumb_distal_pitch">
    <inertial>
      <origin
        xyz="0.00835400525904937 -1.55022040249087E-06 -0.037205152988654"
        rpy="0 0 0" />
      <mass
        value="0.0143594976127551" />
      <inertia
        ixx="7.15388296788212E-06"
        ixy="-6.69727355587774E-11"
        ixz="-2.03395160081791E-07"
        iyy="6.87910807838939E-06"
        iyz="5.44431164399722E-12"
        izz="9.14755969331916E-07" />
    </inertial>
    <visual>
      <origin
        xyz="0 0 0"
        rpy="0 0 0" />
      <geometry>
        <mesh
          filename="../meshes/r_thumb_distal_pitch.obj" />
      </geometry>
      <material
        name="">
        <color
          rgba="1 1 1 1" />
      </material>
    </visual>
    <!-- <collision>
      <origin
        xyz="0 0 0"
        rpy="0 0 0" />
      <geometry>
        <mesh
          filename="../meshes/r_thumb_distal_pitch.obj" />
      </geometry>
    </collision> -->
  </link>
  <joint
    name="r_thumb_distal_pitch"
    type="continuous">
    <origin
      xyz="0.0120000000000024 0.00650000000000001 0.00039999999999929"
      rpy="0 0 0" />
    <parent
      link="r_thumb_proximal_yaw" />
    <child
      link="r_thumb_distal_pitch" />
    <axis
      xyz="0 1 0" />
  </joint>
  <transmission type="SimpleTransmission">
    <joint name="r_thumb_distal_pitch" />
    <actuator name="r_thumb_distal_pitch_motor" />
  </transmission>
  <link
    name="r_index_proximal_finger">
    <inertial>
      <origin
        xyz="0.000117630091740083 -0.00210444255674574 -0.0171028308310166"
        rpy="0 0 0" />
      <mass
        value="0.00213737899371432" />
      <inertia
        ixx="3.18602101869156E-07"
        ixy="-1.25362698289955E-09"
        ixz="2.18478331808027E-09"
        iyy="3.41870944894183E-07"
        iyz="-3.87179337852981E-08"
        izz="9.68030538354866E-08" />
    </inertial>
    <visual>
      <origin
        xyz="0 0 0"
        rpy="0 0 0" />
      <geometry>
        <mesh
          filename="../meshes/r_index_proximal_finger.obj" />
      </geometry>
      <material
        name="">
        <color
          rgba="1 1 1 1" />
      </material>
    </visual>
    <!-- <collision>
      <origin
        xyz="0 0 0"
        rpy="0 0 0" />
      <geometry>
        <mesh
          filename="../meshes/r_index_proximal_finger.obj" />
      </geometry>
    </collision> -->
  </link>
  <joint
    name="r_index_proximal_finger"
    type="continuous">
    <origin
      xyz="0.0285187933054979 -0.0039487923396026 -0.174730558860479"
      rpy="0 -0.0311675978215671 0" />
    <parent
      link="r_hand_roll" />
    <child
      link="r_index_proximal_finger" />
    <axis
      xyz="0.998506141360647 0.0546395979585406 0" />
  </joint>
  <transmission type="SimpleTransmission">
    <joint name="r_index_proximal_finger" />
    <actuator name="r_index_proximal_finger_motor" />
  </transmission>
  <link
    name="r_index_distal_finger">
    <inertial>
      <origin
        xyz="-8.9232232394443E-05 0.00161946515080247 -0.0254573000709627"
        rpy="0 0 0" />
      <mass
        value="0.00504466012184763" />
      <inertia
        ixx="7.63500198005666E-07"
        ixy="-8.93025400014092E-10"
        ixz="-1.75721366263703E-09"
        iyy="7.80112979178675E-07"
        iyz="3.23088054385963E-08"
        izz="1.15370268537332E-07" />
    </inertial>
    <visual>
      <origin
        xyz="0 0 0"
        rpy="0 0 0" />
      <geometry>
        <mesh
          filename="../meshes/r_index_distal_finger.obj" />
      </geometry>
      <material
        name="">
        <color
          rgba="1 1 1 1" />
      </material>
    </visual>
    <!-- <collision>
      <origin
        xyz="0 0 0"
        rpy="0 0 0" />
      <geometry>
        <mesh
          filename="../meshes/r_index_distal_finger.obj" />
      </geometry>
    </collision> -->
  </link>
  <joint
    name="r_index_distal_finger"
    type="continuous">
    <origin
      xyz="0.000133519493595612 -0.00243998929947775 -0.0349145904281185"
      rpy="0 0 0" />
    <parent
      link="r_index_proximal_finger" />
    <child
      link="r_index_distal_finger" />
    <axis
      xyz="-0.998506141360649 -0.0546395979585212 0" />
  </joint>
  <transmission type="SimpleTransmission">
    <joint name="r_index_distal_finger" />
    <actuator name="r_index_distal_finger_motor" />
  </transmission>
  <link
    name="r_middle_proximal_finger">
    <inertial>
      <origin
        xyz="8.44813785091242E-08 -0.00270210141804927 -0.0207829698234612"
        rpy="0 0 0" />
      <mass
        value="0.00260456401479316" />
      <inertia
        ixx="5.09608239447983E-07"
        ixy="-1.75029152849441E-12"
        ixz="1.79637389141395E-12"
        iyy="5.36695856290199E-07"
        iyz="-5.70433154945367E-08"
        izz="1.25808948975584E-07" />
    </inertial>
    <visual>
      <origin
        xyz="0 0 0"
        rpy="0 0 0" />
      <geometry>
        <mesh
          filename="../meshes/r_middle_proximal_finger.obj" />
      </geometry>
      <material
        name="">
        <color
          rgba="1 1 1 1" />
      </material>
    </visual>
    <!-- <collision>
      <origin
        xyz="0 0 0"
        rpy="0 0 0" />
      <geometry>
        <mesh
          filename="../meshes/r_middle_proximal_finger.obj" />
      </geometry>
    </collision> -->
  </link>
  <joint
    name="r_middle_proximal_finger"
    type="continuous">
    <origin
      xyz="0.00751625831450465 -0.00820381922686125 -0.178435376742697"
      rpy="0 0 0" />
    <parent
      link="r_hand_roll" />
    <child
      link="r_middle_proximal_finger" />
    <axis
      xyz="1 0 0" />
  </joint>
  <transmission type="SimpleTransmission">
    <joint name="r_middle_proximal_finger" />
    <actuator name="r_middle_proximal_finger_motor" />
  </transmission>
  <link
    name="r_middle_distal_finger">
    <inertial>
      <origin
        xyz="-6.04521225378366E-07 0.00162350982710252 -0.025457191512641"
        rpy="0 0 0" />
      <mass
        value="0.00504466863846282" />
      <inertia
        ixx="7.6345530976374E-07"
        ixy="1.85475490772791E-11"
        ixz="1.04892536633895E-11"
        iyy="7.80159403477418E-07"
        iyz="3.23975164550656E-08"
        izz="1.15374581204344E-07" />
    </inertial>
    <visual>
      <origin
        xyz="0 0 0"
        rpy="0 0 0" />
      <geometry>
        <mesh
          filename="../meshes/r_middle_distal_finger.obj" />
      </geometry>
      <material
        name="">
        <color
          rgba="1 1 1 1" />
      </material>
    </visual>
    <!-- <collision>
      <origin
        xyz="0 0 0"
        rpy="0 0 0" />
      <geometry>
        <mesh
          filename="../meshes/r_middle_distal_finger.obj" />
      </geometry>
    </collision> -->
  </link>
  <joint
    name="r_middle_distal_finger"
    type="continuous">
    <origin
      xyz="0 -0.00292977189725413 -0.0418976901109125"
      rpy="0 0 0" />
    <parent
      link="r_middle_proximal_finger" />
    <child
      link="r_middle_distal_finger" />
    <axis
      xyz="1 0 0" />
  </joint>
  <transmission type="SimpleTransmission">
    <joint name="r_middle_distal_finger" />
    <actuator name="r_middle_distal_finger_motor" />
  </transmission>
  <link
    name="r_ring_proximal_finger">
    <inertial>
      <origin
        xyz="-0.000147627677307374 -0.00269935568307084 -0.0207828027334272"
        rpy="0 0 0" />
      <mass
        value="0.00260456442916689" />
      <inertia
        ixx="5.09688869653555E-07"
        ixy="1.47567826577373E-09"
        ixz="-3.11642075126123E-09"
        iyy="5.36608130664138E-07"
        iyz="-5.69836124932145E-08"
        izz="1.25816010690367E-07" />
    </inertial>
    <visual>
      <origin
        xyz="0 0 0"
        rpy="0 0 0" />
      <geometry>
        <mesh
          filename="../meshes/r_ring_proximal_finger.obj" />
      </geometry>
      <material
        name="">
        <color
          rgba="1 1 1 1" />
      </material>
    </visual>
    <!-- <collision>
      <origin
        xyz="0 0 0"
        rpy="0 0 0" />
      <geometry>
        <mesh
          filename="../meshes/r_ring_proximal_finger.obj" />
      </geometry>
    </collision> -->
  </link>
  <joint
    name="r_ring_proximal_finger"
    type="continuous">
    <origin
      xyz="-0.0135862766764854 -0.00807856148813096 -0.176446661066022"
      rpy="0 0.0311675978215922 0" />
    <parent
      link="r_hand_roll" />
    <child
      link="r_ring_proximal_finger" />
    <axis
      xyz="0.998506141360648 -0.0546395979585354 0" />
  </joint>
  <transmission type="SimpleTransmission">
    <joint name="r_ring_proximal_finger" />
    <actuator name="r_ring_proximal_finger_motor" />
  </transmission>
  <link
    name="r_ring_distal_finger">
    <inertial>
      <origin
        xyz="-3.05447320099322E-05 -0.00055182982921842 -0.014581933967133"
        rpy="0 0 0" />
      <mass
        value="0.00182869050551967" />
      <inertia
        ixx="2.6351019026747E-07"
        ixy="6.80589443443767E-10"
        ixz="3.40598850881854E-10"
        iyy="2.75942607379873E-07"
        iyz="6.18066814960194E-09"
        izz="4.69846444924734E-08" />
    </inertial>
    <visual>
      <origin
        xyz="0 0 0"
        rpy="0 0 0" />
      <geometry>
        <mesh
          filename="../meshes/r_ring_distal_finger.obj" />
      </geometry>
      <material
        name="">
        <color
          rgba="1 1 1 1" />
      </material>
    </visual>
    <!-- <collision>
      <origin
        xyz="0 0 0"
        rpy="0 0 0" />
      <geometry>
        <mesh
          filename="../meshes/r_ring_distal_finger.obj" />
      </geometry>
    </collision> -->
  </link>
  <joint
    name="r_ring_distal_finger"
    type="continuous">
    <origin
      xyz="-0.000160223392313565 -0.00292798715935183 -0.0418975085136676"
      rpy="0 0 0" />
    <parent
      link="r_ring_proximal_finger" />
    <child
      link="r_ring_distal_finger" />
    <axis
      xyz="-0.996566833460806 -0.0546395979585212 -0.0622017747402293" />
  </joint>
  <transmission type="SimpleTransmission">
    <joint name="r_ring_distal_finger" />
    <actuator name="r_ring_distal_finger_motor" />
  </transmission>
  <link
    name="r_pinky_proximal_finger">
    <inertial>
      <origin
        xyz="-0.000117692942698921 -0.00210238254136691 -0.0171031038120715"
        rpy="0 0 0" />
      <mass
        value="0.00213737106866596" />
      <inertia
        ixx="3.18613658418781E-07"
        ixy="1.35743663351377E-09"
        ixz="-2.14595314636863E-09"
        iyy="3.4186844347216E-07"
        iyz="-3.86910999425676E-08"
        izz="9.67934520226222E-08" />
    </inertial>
    <visual>
      <origin
        xyz="0 0 0"
        rpy="0 0 0" />
      <geometry>
        <mesh
          filename="../meshes/r_pinky_proximal_finger.obj" />
      </geometry>
      <material
        name="">
        <color
          rgba="1 1 1 1" />
      </material>
    </visual>
    <!-- <collision>
      <origin
        xyz="0 0 0"
        rpy="0 0 0" />
      <geometry>
        <mesh
          filename="../meshes/r_pinky_proximal_finger.obj" />
      </geometry>
    </collision> -->
  </link>
  <joint
    name="r_pinky_proximal_finger"
    type="continuous">
    <origin
      xyz="-0.0342146631046227 -0.0036338733880803 -0.17022700803684"
      rpy="0 0.0659957839625563 0" />
    <parent
      link="r_hand_roll" />
    <child
      link="r_pinky_proximal_finger" />
    <axis
      xyz="0.998370307122331 -0.0570677654763477 0" />
  </joint>
  <transmission type="SimpleTransmission">
    <joint name="r_pinky_proximal_finger" />
    <actuator name="r_pinky_proximal_finger_motor" />
  </transmission>
  <link
    name="r_pinky_distal_finger">
    <inertial>
      <origin
        xyz="-6.68864174628164E-05 -0.00079192546781276 -0.0127151268014948"
        rpy="0 0 0" />
      <mass
        value="0.00162993727561191" />
      <inertia
        ixx="1.83853268460625E-07"
        ixy="6.36687597538947E-10"
        ixz="-4.24280859276174E-10"
        iyy="1.94697260253276E-07"
        iyz="1.38051635062388E-09"
        izz="3.94676279750627E-08" />
    </inertial>
    <visual>
      <origin
        xyz="0 0 0"
        rpy="0 0 0" />
      <geometry>
        <mesh
          filename="../meshes/r_pinky_distal_finger.obj" />
      </geometry>
      <material
        name="">
        <color
          rgba="1 1 1 1" />
      </material>
    </visual>
    <!-- <collision>
      <origin
        xyz="0 0 0"
        rpy="0 0 0" />
      <geometry>
        <mesh
          filename="../meshes/r_pinky_distal_finger.obj" />
      </geometry>
    </collision> -->
  </link>
  <joint
    name="r_pinky_distal_finger"
    type="continuous">
    <origin
      xyz="-0.00013921709411558 -0.0024355292668054 -0.0349148795757724"
      rpy="0 0 0" />
    <parent
      link="r_pinky_proximal_finger" />
    <child
      link="r_pinky_distal_finger" />
    <axis
      xyz="-0.99837030712233 0.0570677654763578 0" />
  </joint>
  <transmission type="SimpleTransmission">
    <joint name="r_pinky_distal_finger" />
    <actuator name="r_pinky_distal_finger_motor" />
  </transmission>
  
</robot>
